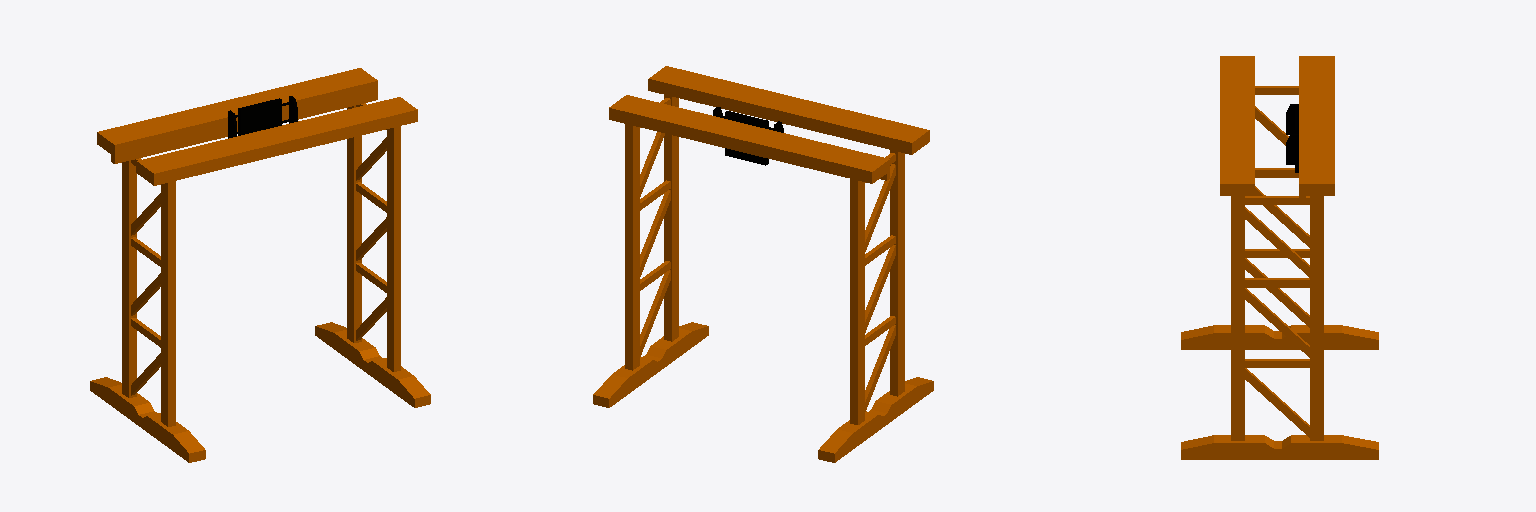
File: crane2.obj
3 renders of one model, left to right at view 1: azimuth 30°, elevation 25°; view 2: azimuth 150°, elevation 25°; view 3: azimuth 270°, elevation 25°, orthographic.
Visible parts, largest first — view 1: Cube.084_Cube.096; view 2: Cube.084_Cube.096; view 3: Cube.084_Cube.096.
Part boxes in pixels (bbox=[...]): Cube.084_Cube.096: bbox=[90, 68, 430, 462]; Cube.084_Cube.096: bbox=[593, 66, 933, 462]; Cube.084_Cube.096: bbox=[1181, 56, 1378, 459].
Size of the model in its own units: 14.1 by 14.57 by 9.21.